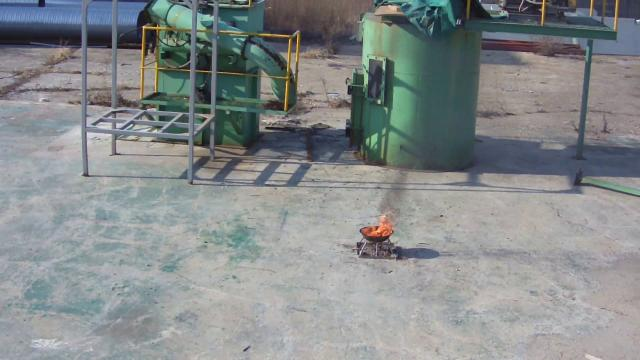fire: (361, 216, 393, 236)
smoke: (376, 168, 412, 228)
